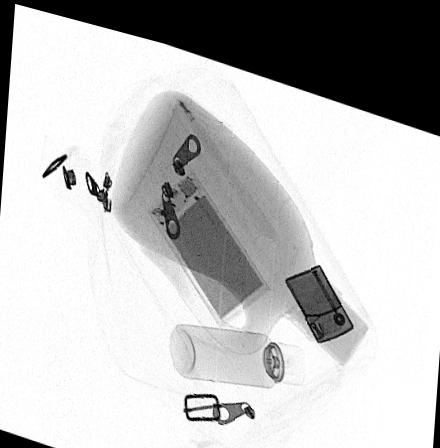Lighter: (283, 245, 354, 327)
Powerbank: (147, 159, 269, 315)
Sprayer: (168, 314, 304, 373)
